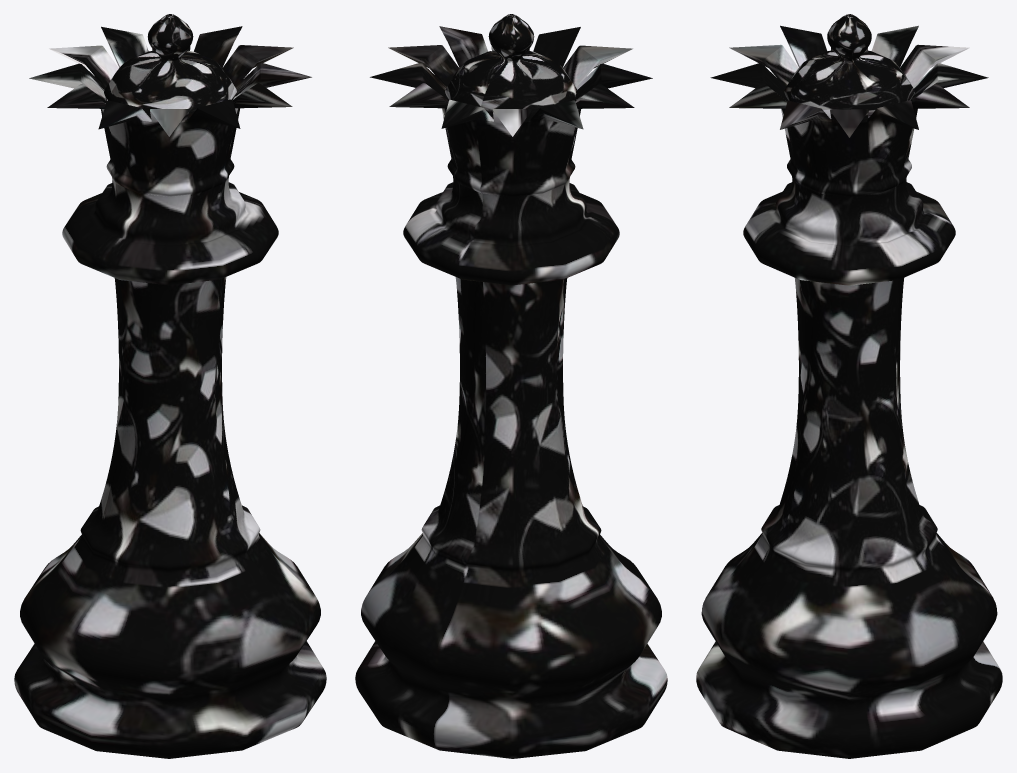
The model's file is Queen.obj.
The picture shows the model from 3 angles, left to right: view 1: azimuth 30°, elevation 25°; view 2: azimuth 150°, elevation 25°; view 3: azimuth 270°, elevation 25°; orthographic projection.
Visible parts, largest first — view 1: mesh002; view 2: mesh002; view 3: mesh002.
Part boxes in pixels (x1=…): mesh002: x1=14, y1=14, x2=326, y2=758; mesh002: x1=355, y1=14, x2=667, y2=758; mesh002: x1=696, y1=14, x2=1002, y2=758.
Size of the model in its own units: 5.52 by 13.29 by 5.4.
